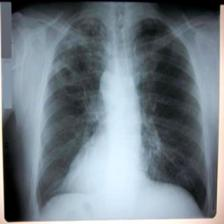tuberculosis: (29, 14, 213, 224)
